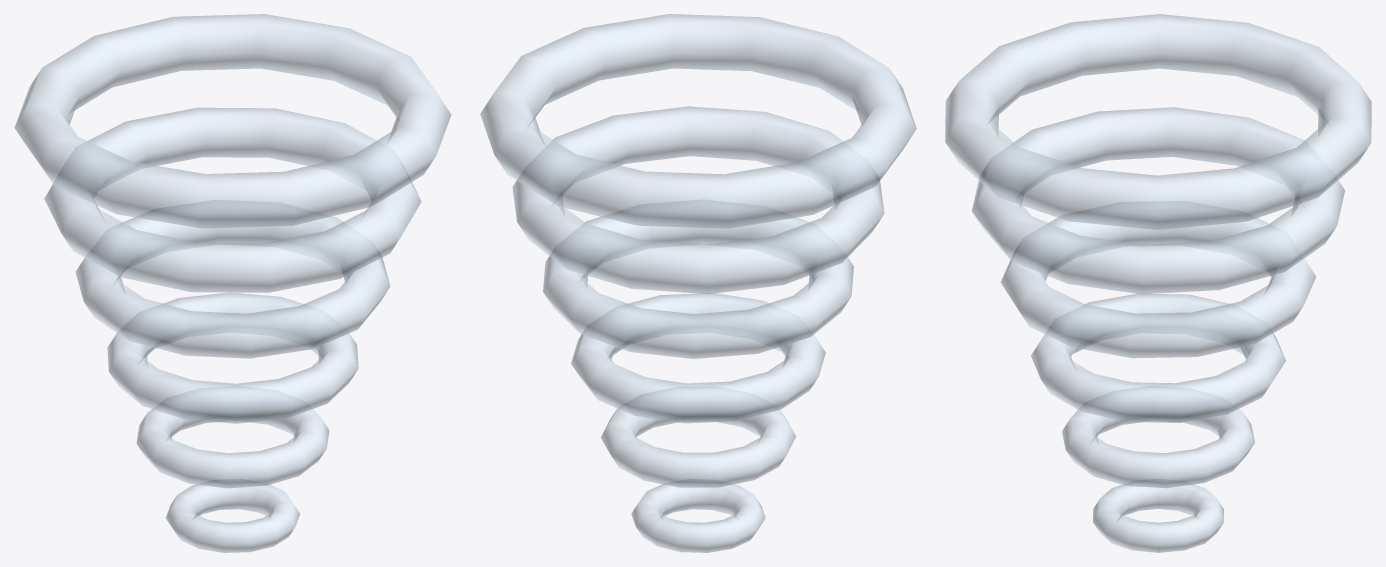
File: whirl.glb
The picture shows the model from 3 angles, left to right: view 1: azimuth 30°, elevation 25°; view 2: azimuth 150°, elevation 25°; view 3: azimuth 270°, elevation 25°; orthographic projection.
Parts seen in each view (by area): view 1: spin; view 2: spin; view 3: spin.
Boxes of the visible parts, x1,y1,x2,y2 form: spin: [14, 14, 451, 552]; spin: [480, 14, 916, 552]; spin: [945, 14, 1371, 552].
Size of the model in its own units: 1.01 by 1.08 by 0.9818.
